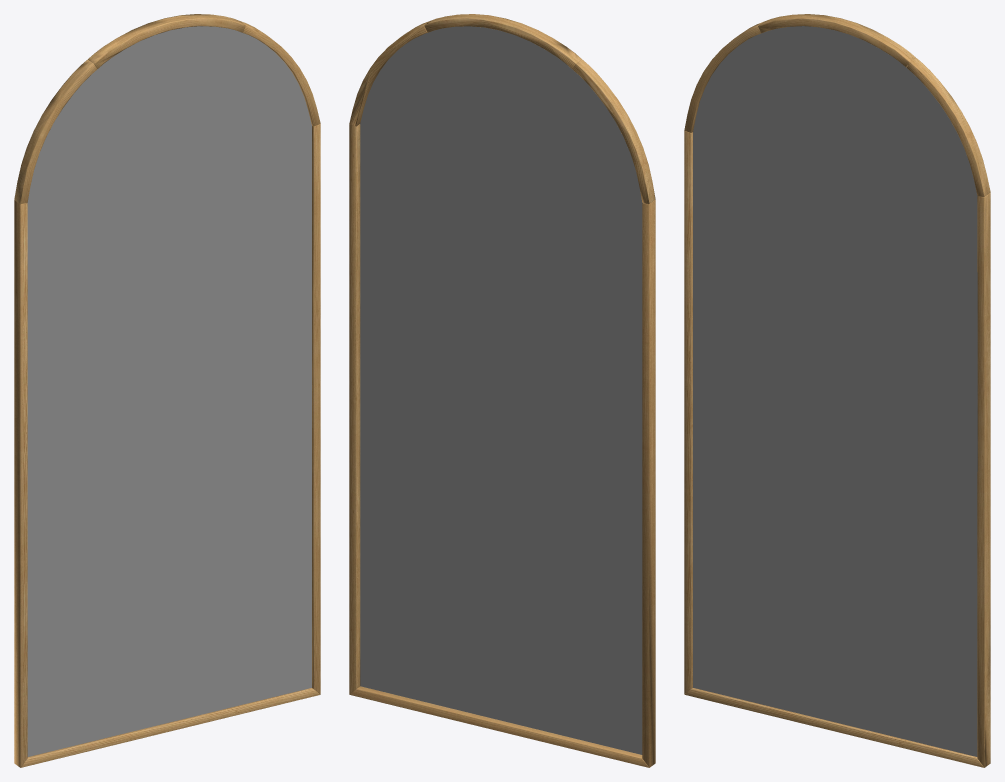
File: mirror_amalia_mohitoz.glb
3 renders of one model, left to right at view 1: azimuth 30°, elevation 25°; view 2: azimuth 150°, elevation 25°; view 3: azimuth 330°, elevation 25°, orthographic.
Parts seen in each view (by area): view 1: Shape002_Standardmaterial_0, Rectangle003_Standardmaterial_0; view 2: Shape002_Standardmaterial_0, Rectangle003_Standardmaterial_0; view 3: Shape002_Standardmaterial_0, Rectangle003_Standardmaterial_0.
Part boxes in pixels (left/top/right/bottom): Shape002_Standardmaterial_0: left=27, top=26, right=311, bottom=756; Rectangle003_Standardmaterial_0: left=14, top=14, right=320, bottom=767; Shape002_Standardmaterial_0: left=360, top=26, right=642, bottom=754; Rectangle003_Standardmaterial_0: left=349, top=14, right=655, bottom=767; Shape002_Standardmaterial_0: left=693, top=26, right=977, bottom=756; Rectangle003_Standardmaterial_0: left=684, top=14, right=990, bottom=767.
Bounding box in the file's own units: 0.8199 × 1.85 × 0.03.
2 materials, 1 textured.
